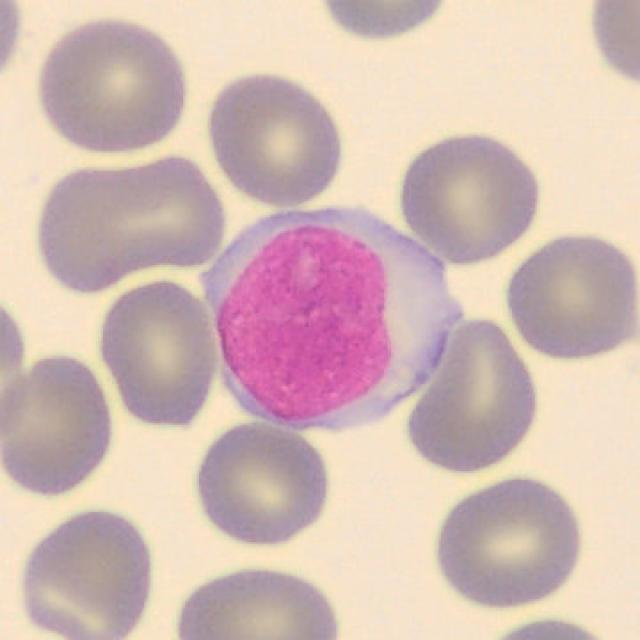Linfocito: (201, 210, 464, 434)
